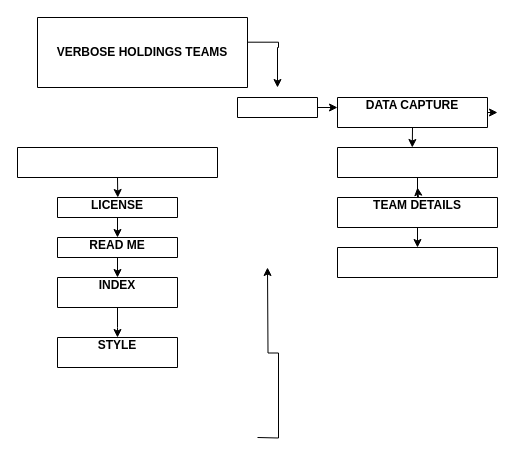
Image size: 523x464. Some labels were removed from this diagram. The centre of each missing label's shape, as x and y in pixels:
"CODE UPDATE" goes at [117,162].
"CRM" goes at [277,107].
"GAMMA" goes at [417,262].
"UPDATE GITHUB PROFILE" goes at [417,162].
